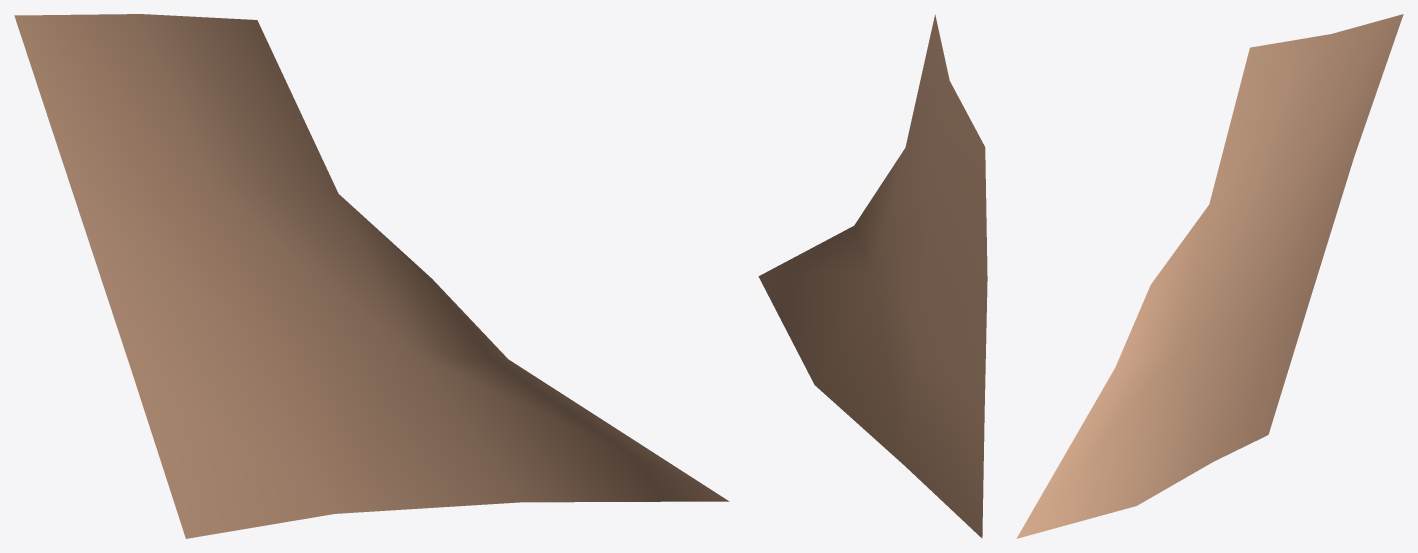
File: radial-foveola-l.glb
3 views of the same model, side by side, from view 1: azimuth 30°, elevation 25°; view 2: azimuth 150°, elevation 25°; view 3: azimuth 270°, elevation 25° (orthographic). The views are drawn at different scales.
Parts seen in each view (by area): view 1: Radial foveola.l; view 2: Radial foveola.l; view 3: Radial foveola.l.
Part boxes in pixels (x1,y1,x2,y2): Radial foveola.l: (14, 14, 729, 538); Radial foveola.l: (758, 14, 987, 538); Radial foveola.l: (1016, 14, 1403, 538).
Size of the model in its own units: 0.0256 by 0.0264 by 0.0226.
